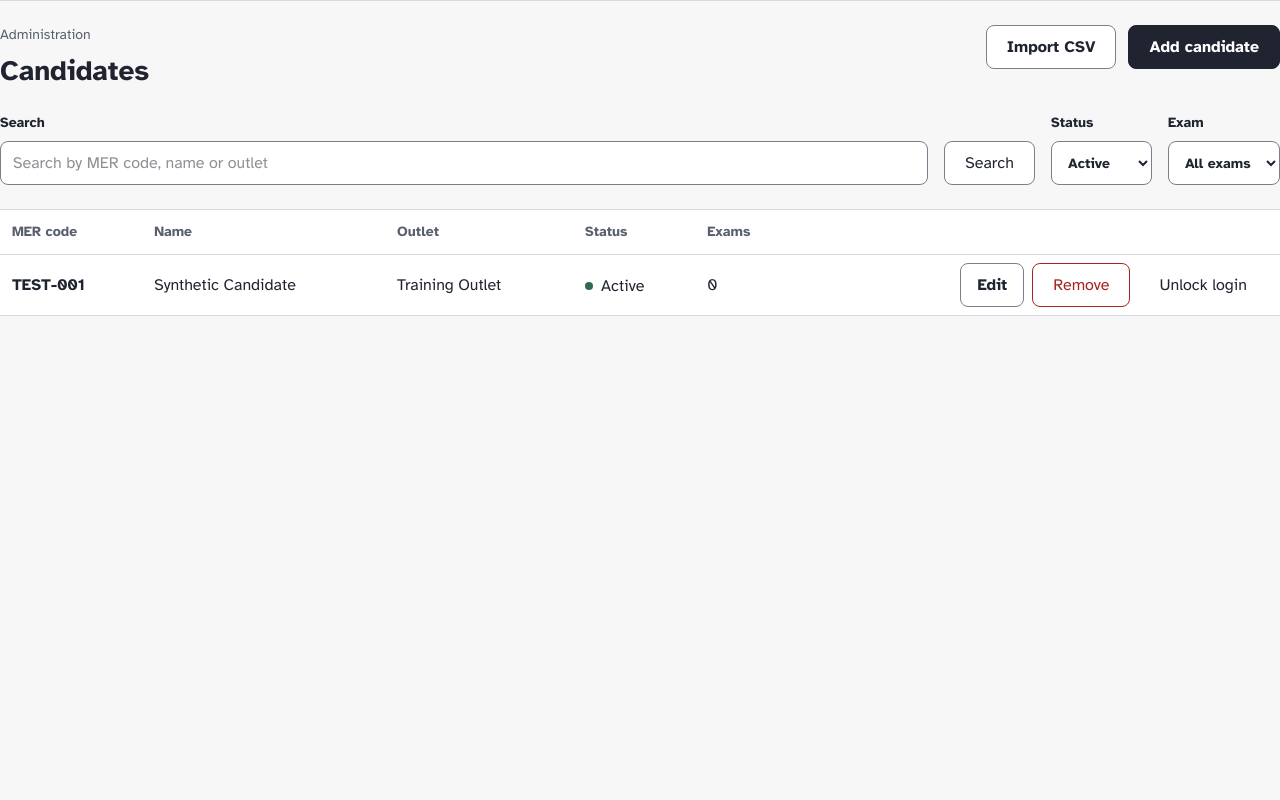
Test case: CandidateList › marks a blocked candidate inactive only after confirmation
Expected: the text "Synthetic Candidate" is shown, [142,254,385,315]
What coordinates should you click on to do the following:
click the button "Remove"
I would click on:
 (1081, 285)
Its box is [1032,263,1130,307].
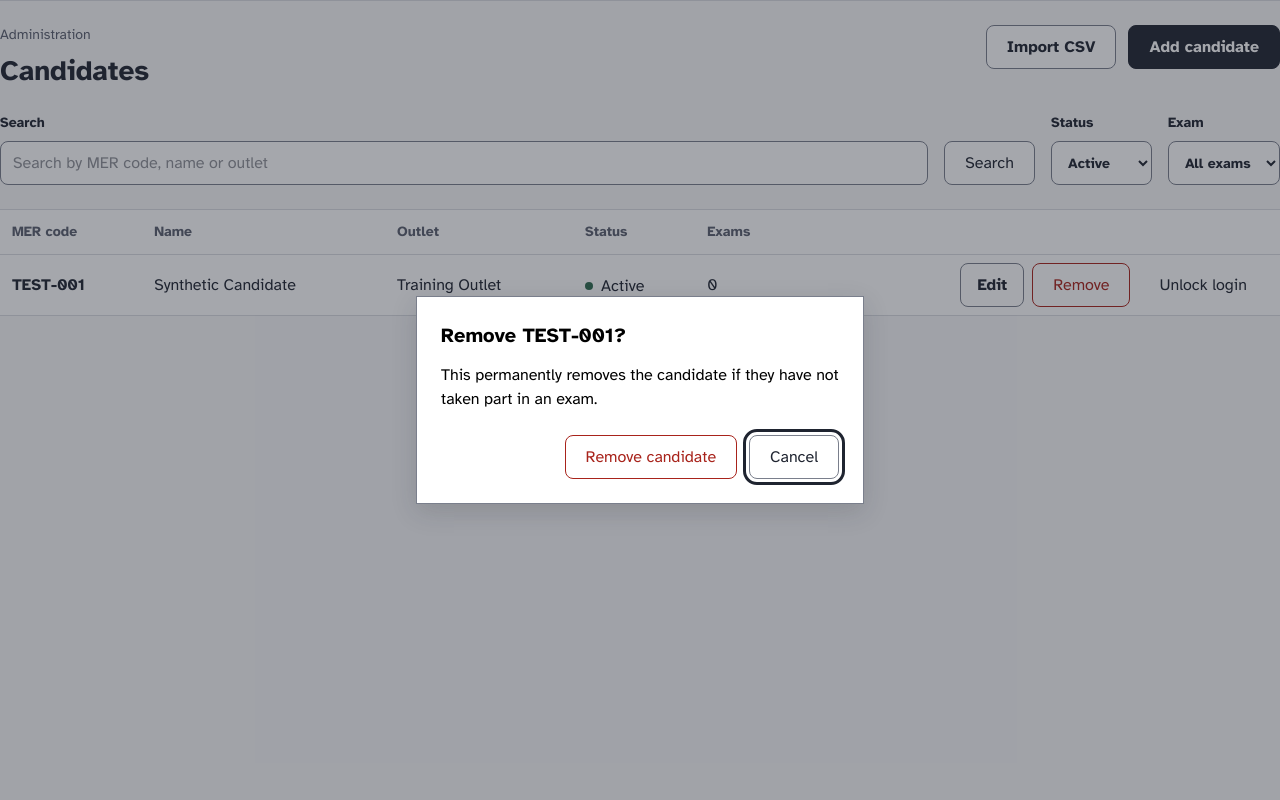
What coordinates should you click on to do the following:
click the button "Remove candidate"
I would click on:
 (651, 457)
Its box is [565,435,737,479].
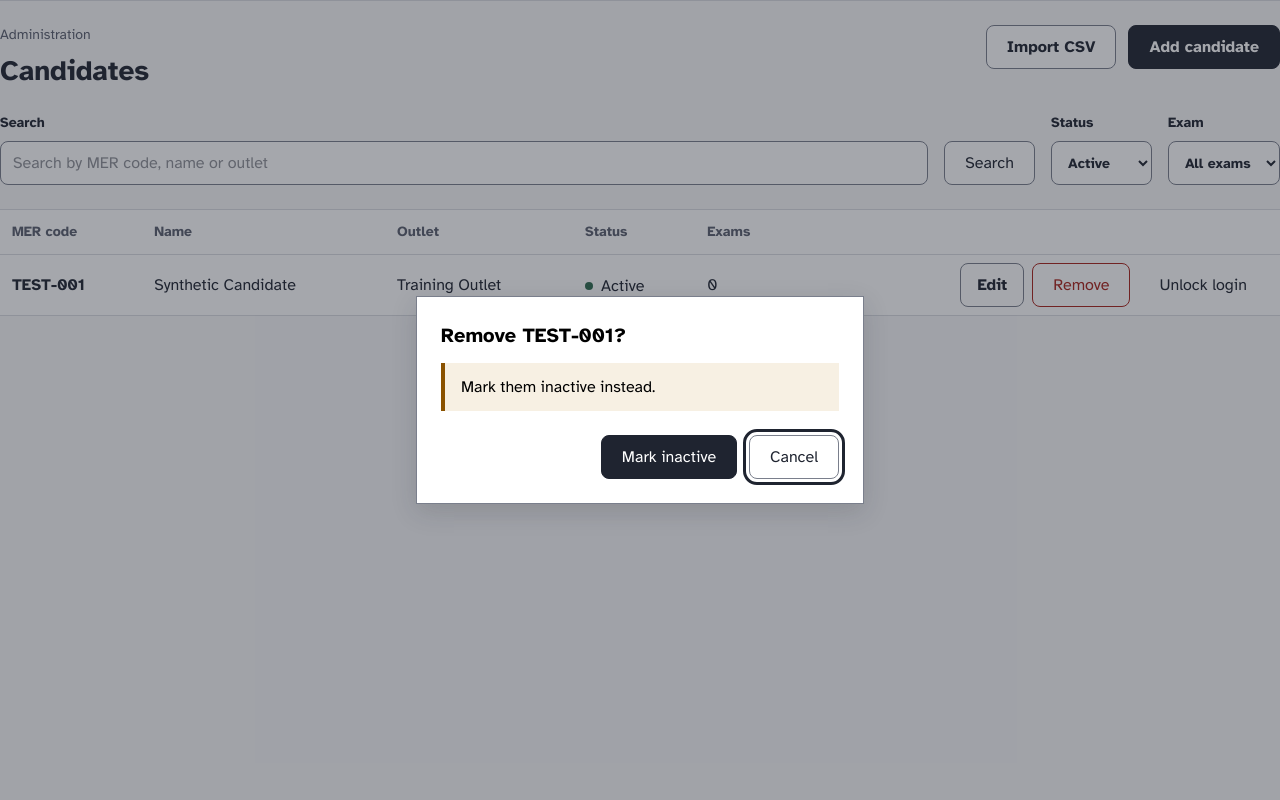
What coordinates should you click on to do the following:
click the button "Mark inactive"
I would click on:
 (669, 457)
Its box is [601,435,737,479].
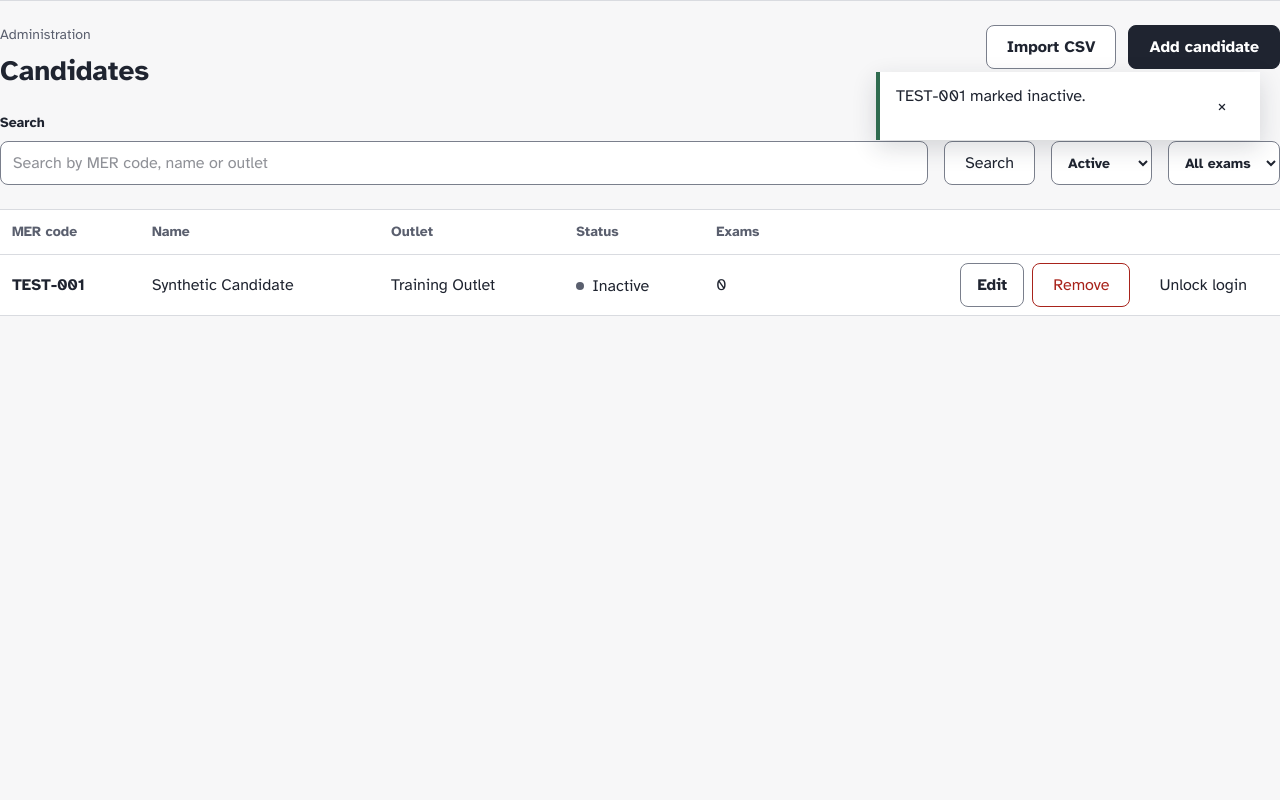
Expected: the text "Synthetic Candidate" is shown, [140,254,379,315]
Now the text "TEST-001 marked inactive." is shown, box [896,84,1085,108]
